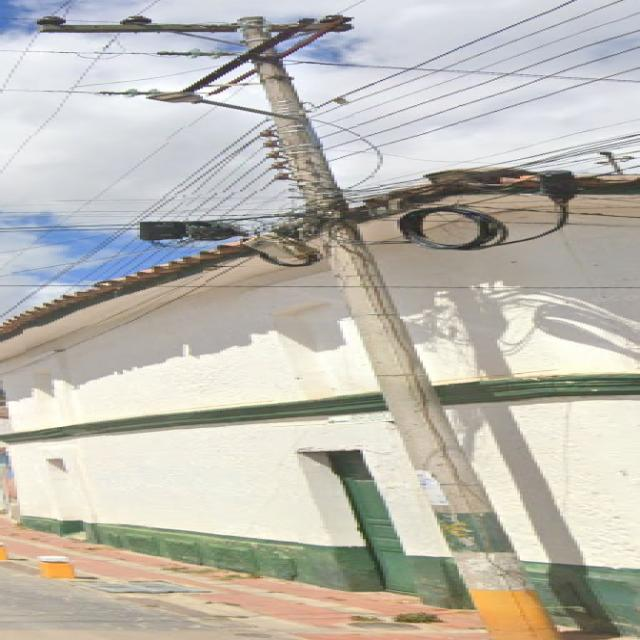Fachada: (3, 159, 640, 635)
Poste: (37, 15, 560, 639)
